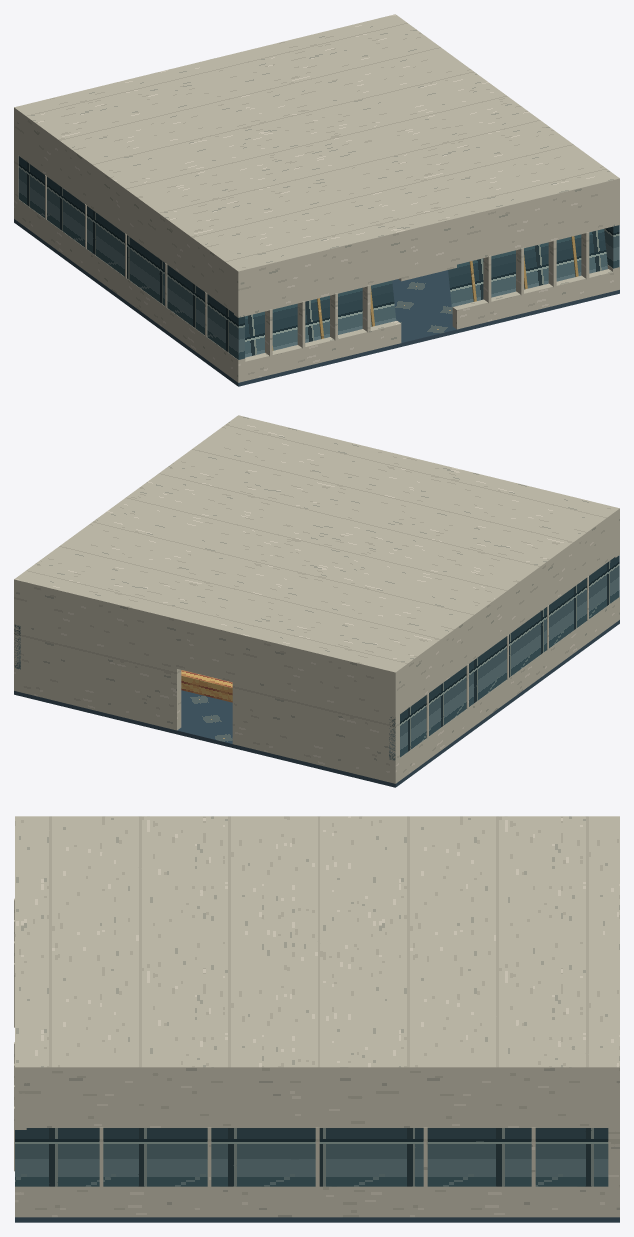
Rendered from mv-observation-lounge.glb.
The picture shows the model from 3 angles, top to bottom: view 1: azimuth 30°, elevation 25°; view 2: azimuth 150°, elevation 25°; view 3: azimuth 270°, elevation 25°; orthographic projection. The views are drawn at different scales.
Visible parts, largest first — view 1: shell.004, fittings.004, floor_mv-observation-lounge; view 2: shell.004, floor_mv-observation-lounge, fittings.004; view 3: shell.004, floor_mv-observation-lounge.
Boxes of the visible parts, <box> form: shell.004: <box>14,14,619,382</box>; fittings.004: <box>245,229,607,357</box>; floor_mv-observation-lounge: <box>14,219,619,386</box>; shell.004: <box>14,415,619,783</box>; floor_mv-observation-lounge: <box>14,620,619,787</box>; fittings.004: <box>181,670,232,702</box>; shell.004: <box>14,816,619,1217</box>; floor_mv-observation-lounge: <box>15,1217,619,1222</box>.
Size of the model in its own units: 16.54 by 4.76 by 16.83.
Materials: 8 (8 with a texture image).
